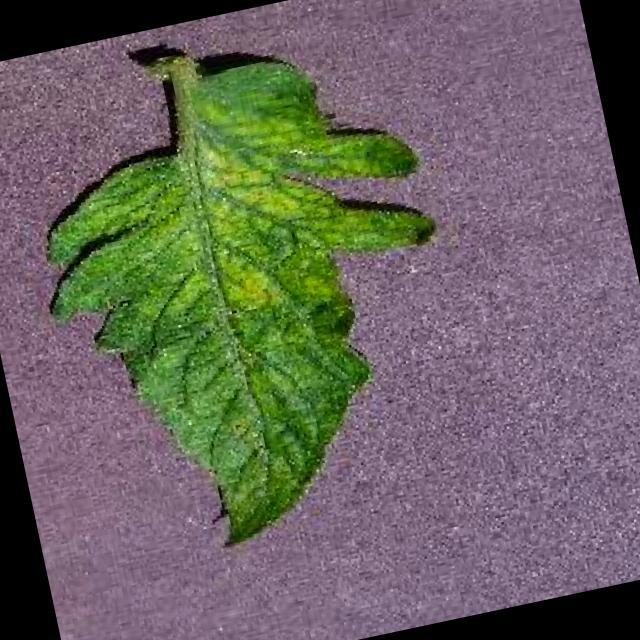Tomato mosaic virus leaf: (4, 23, 498, 582)
